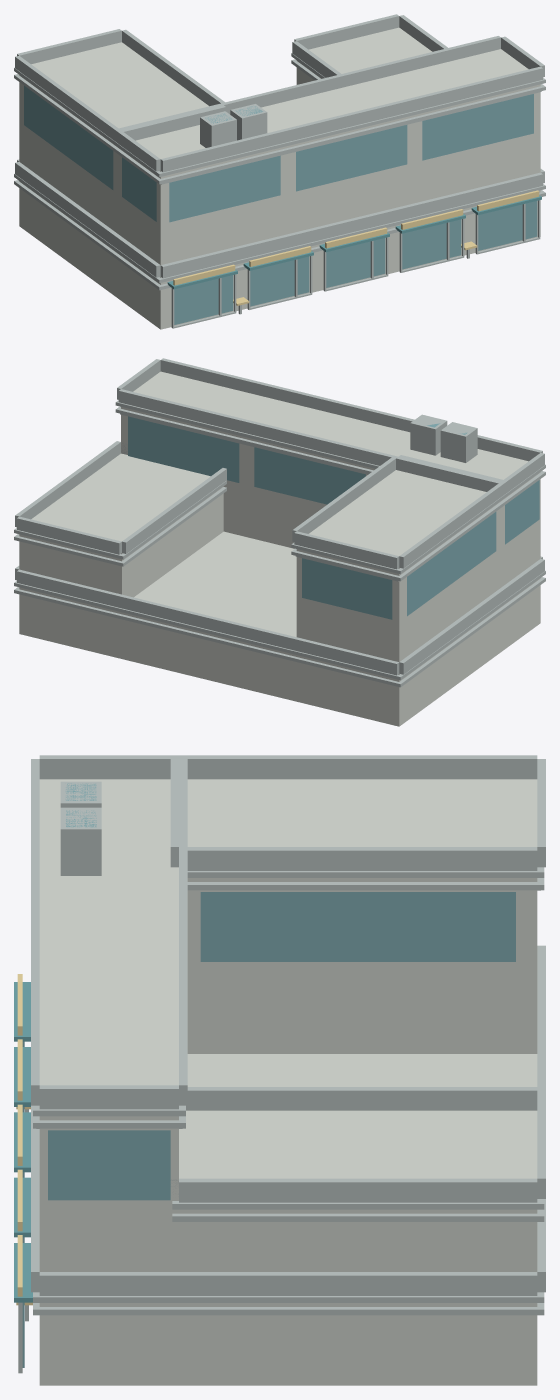
Rendered from commercial_3x2_court.glb.
3 renders of one model, top to bottom at view 1: azimuth 30°, elevation 25°; view 2: azimuth 150°, elevation 25°; view 3: azimuth 270°, elevation 25°, orthographic. The views are drawn at different scales.
Parts seen in each view (by area): view 1: commercial_3x2_court_0; view 2: commercial_3x2_court_0; view 3: commercial_3x2_court_0.
Part boxes in pixels (left/top/right/bottom): commercial_3x2_court_0: left=14, top=14, right=545, bottom=329; commercial_3x2_court_0: left=14, top=358, right=545, bottom=726; commercial_3x2_court_0: left=14, top=755, right=545, bottom=1385.
Bounding box in the file's own units: 23 × 10.5 × 15.5.
